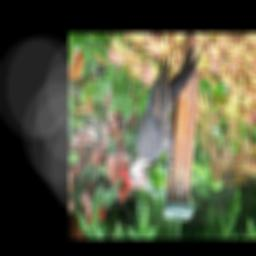Woodpecker: (119, 43, 202, 197)
